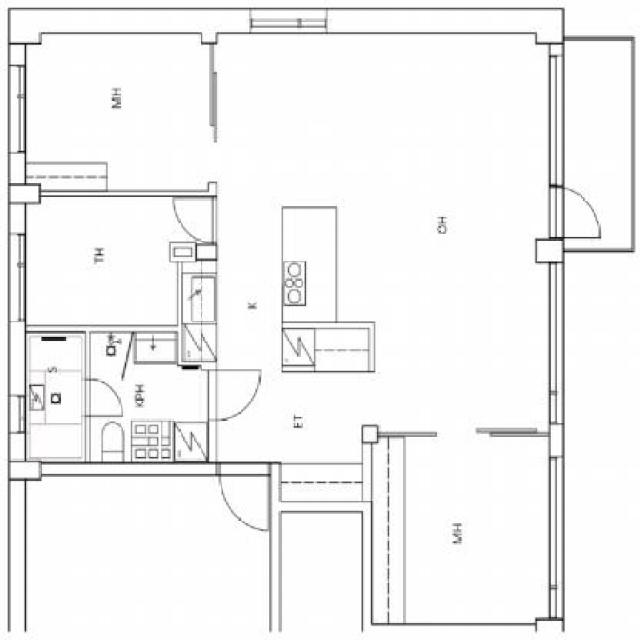door: (217, 466, 275, 537), (549, 185, 606, 243), (206, 366, 263, 422), (174, 199, 217, 246), (86, 376, 123, 422)
window: (546, 268, 566, 422), (548, 42, 564, 185), (549, 458, 563, 617), (249, 6, 326, 34), (8, 65, 26, 160), (9, 231, 25, 320), (8, 394, 26, 429)
zone: (214, 29, 549, 465), (29, 469, 269, 631), (370, 437, 552, 623), (28, 32, 214, 194), (26, 192, 212, 326), (89, 329, 214, 458), (563, 40, 631, 254), (280, 507, 367, 640), (25, 326, 89, 462)
